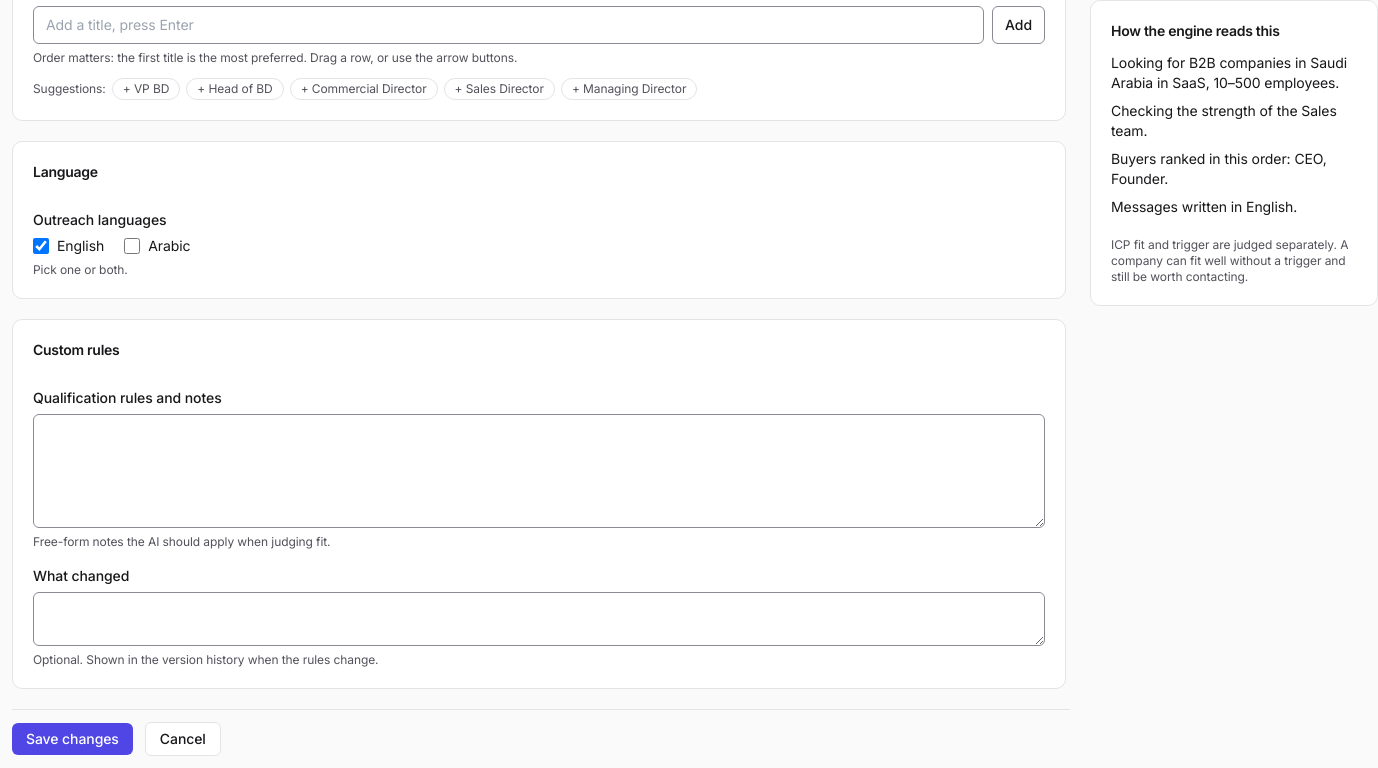
it: CampaignForm (edit) › says when the API made no new version
(page scrolled)
Type "just a note" into the text box labelled "What changed" at (539, 619), box x1=33 y1=592 x2=1045 y2=646
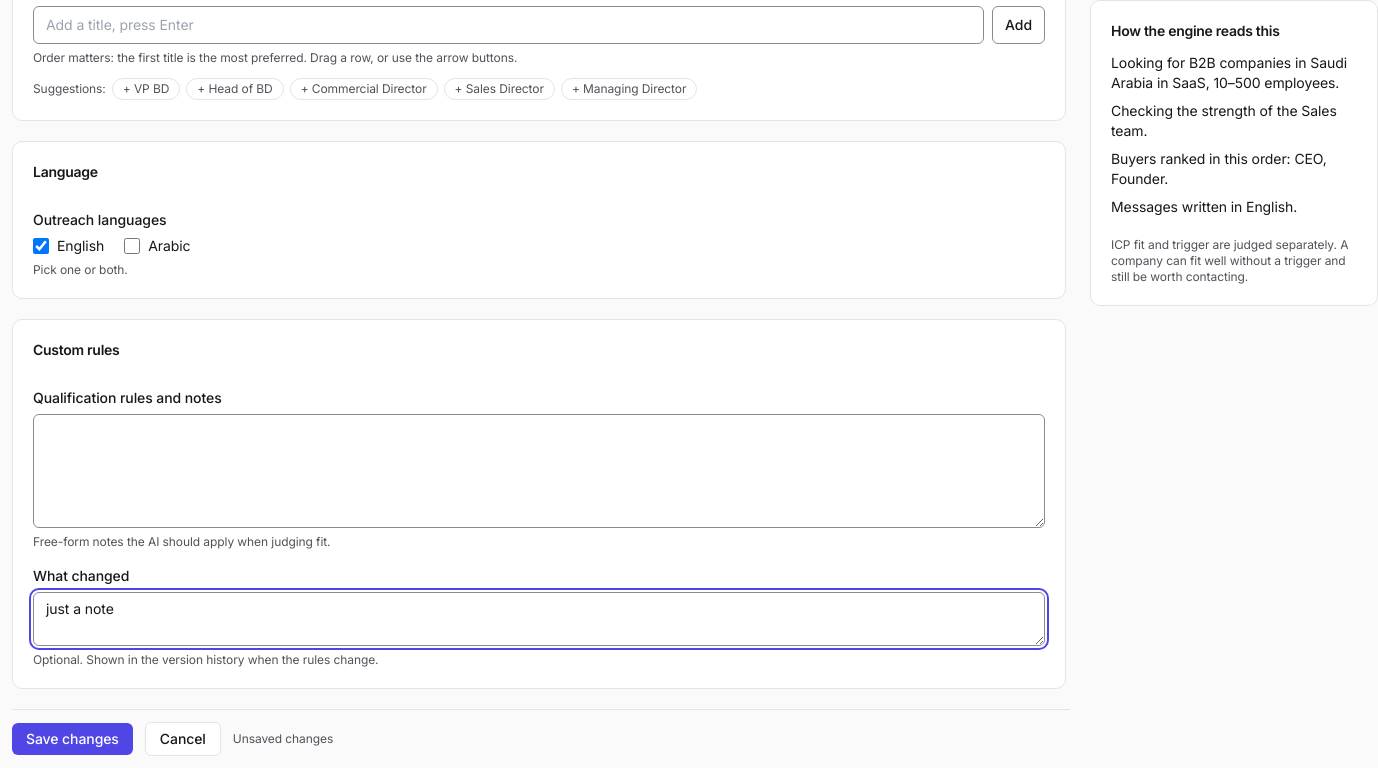
Click the button "Save changes" at (72, 739), box x1=12 y1=723 x2=133 y2=755
(page scrolled)
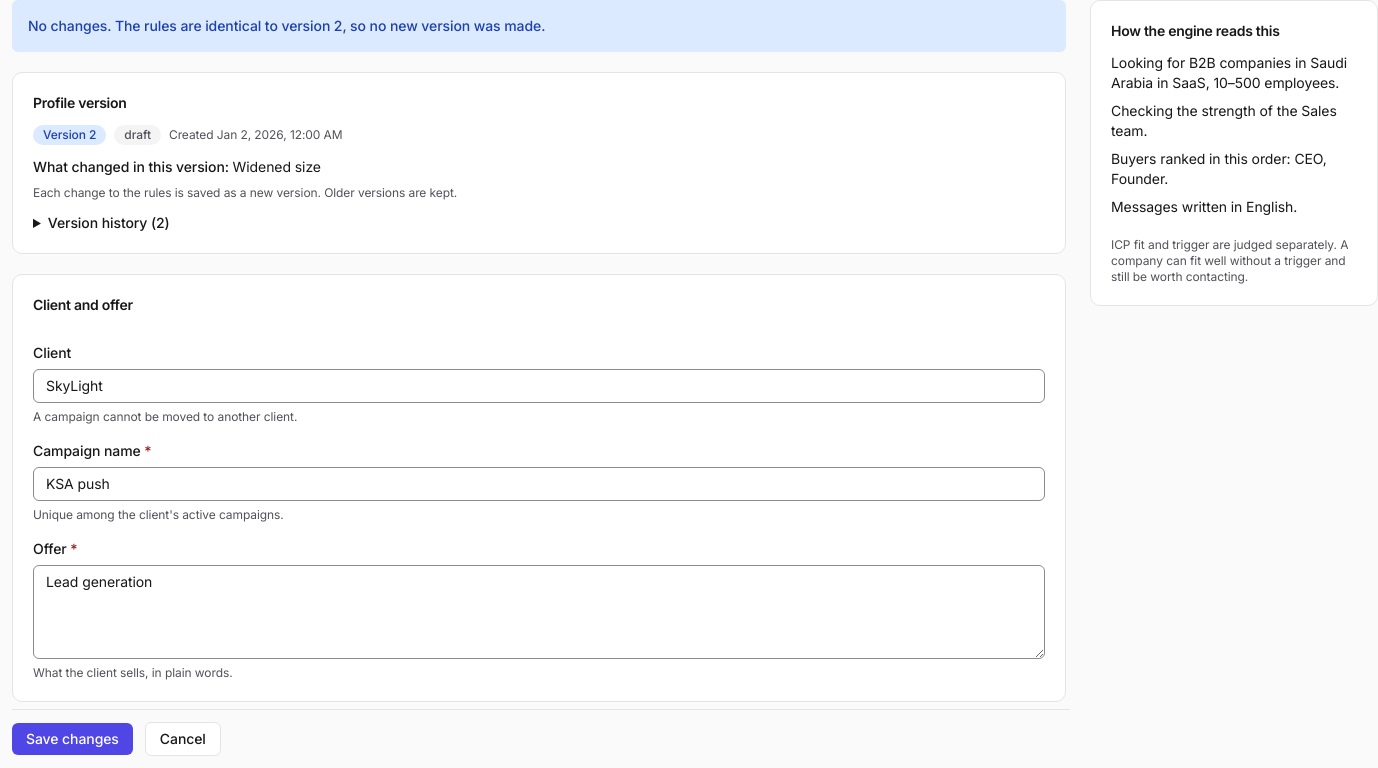
Now the text "No changes. The rules are identical to version 2, so no new version was made." is shown, box x1=12 y1=0 x2=1066 y2=52
